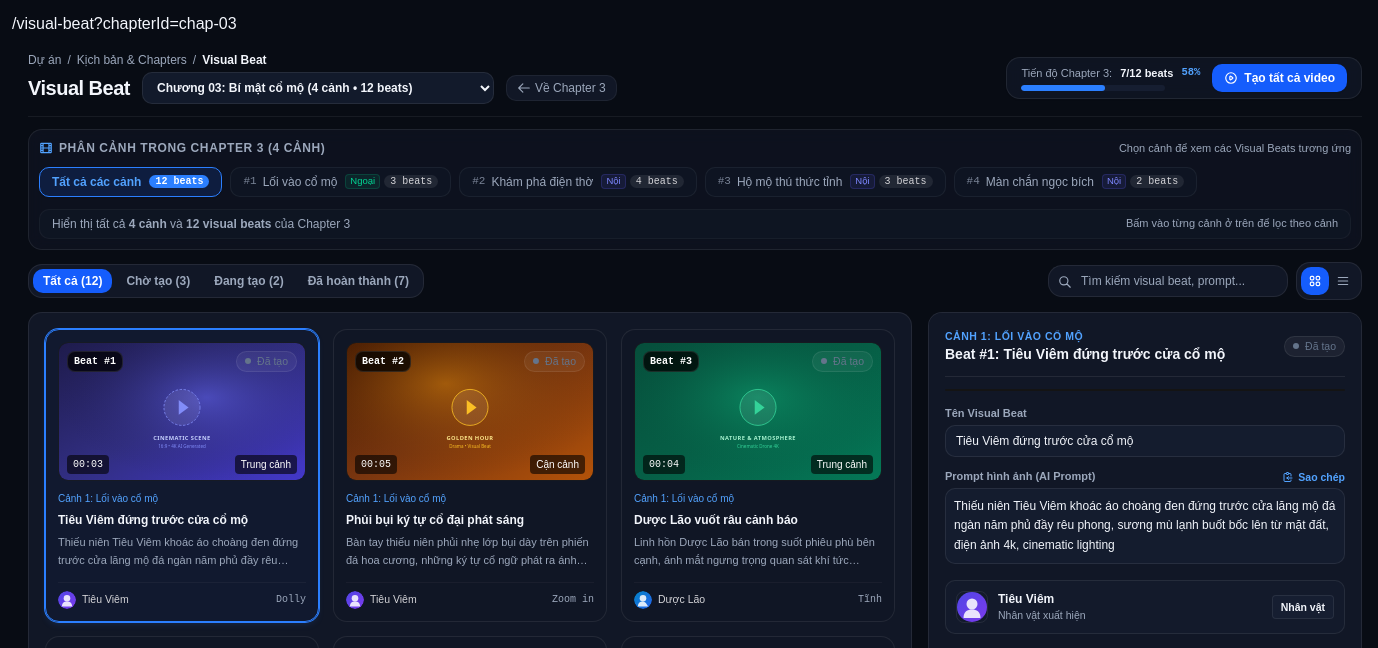
Test case: VisualBeatPage - Chapter > Scene > Visual Beat Hierarchy › filters visual beats when selecting a specific scene tab
// Click Scene 1 ("Lối vào cổ mộ")
Click the button "#1 Lối vào cổ mộ Ngoại 3 beats" at (341,182), box top-left (230, 166), bottom-right (451, 196)
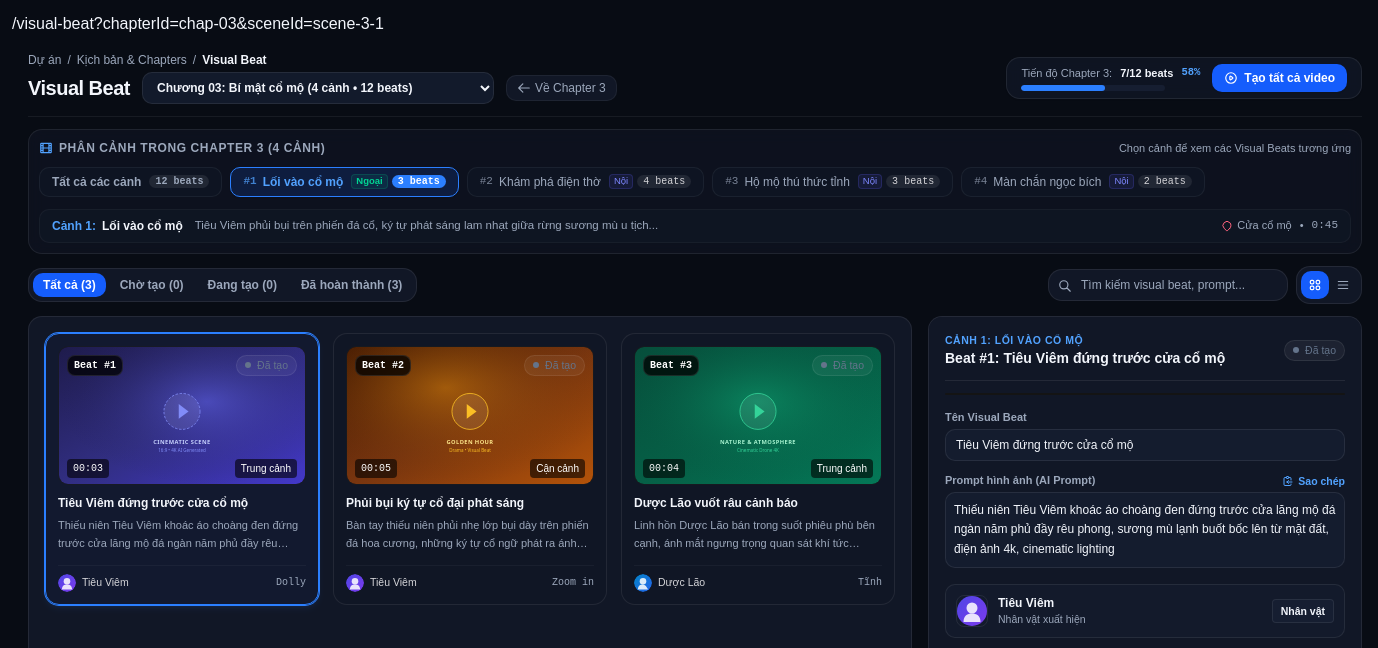
Expected: the heading "Tiêu Viêm đứng trước cửa cổ mộ" is shown, top-left (58, 496), bottom-right (248, 510)
Result: the text with test id "location-display" shows "sceneId=scene-3-1" at top-left (12, 15), bottom-right (384, 32)
